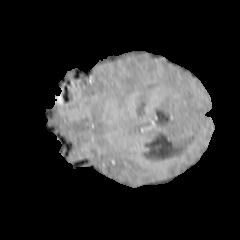glioma: (117, 69, 195, 122)
